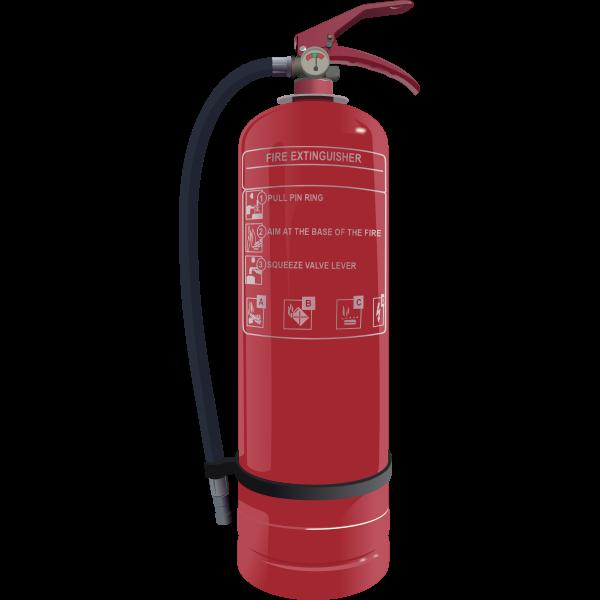Fire Extinguisher: (170, 0, 507, 597)
